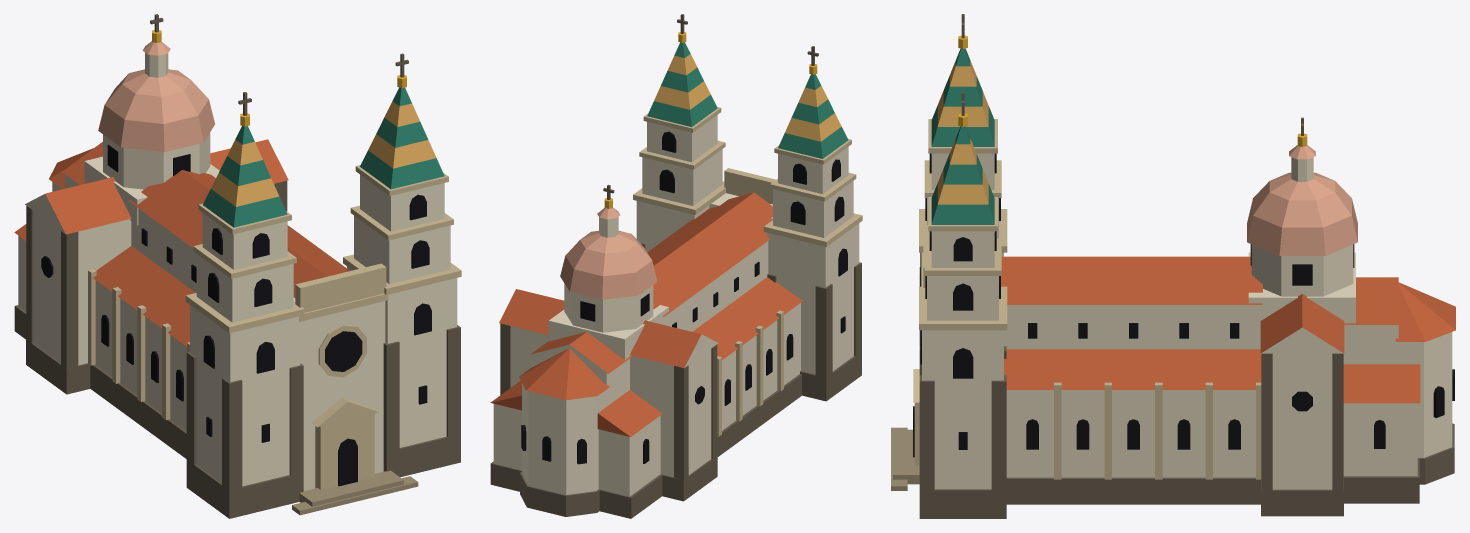
Rendered from acireale.glb.
3 renders of one model, left to right at view 1: azimuth 30°, elevation 25°; view 2: azimuth 150°, elevation 25°; view 3: azimuth 270°, elevation 25°, orthographic. The views are drawn at different scales.
Parts seen in each view (by area): view 1: POI_acireale; view 2: POI_acireale; view 3: POI_acireale.
Part boxes in pixels (x1=…): POI_acireale: x1=14, y1=14, x2=461, y2=518; POI_acireale: x1=490, y1=14, x2=862, y2=518; POI_acireale: x1=891, y1=14, x2=1455, y2=518.
Bounding box in the file's own units: 43.2 × 71.3 × 89.44.
